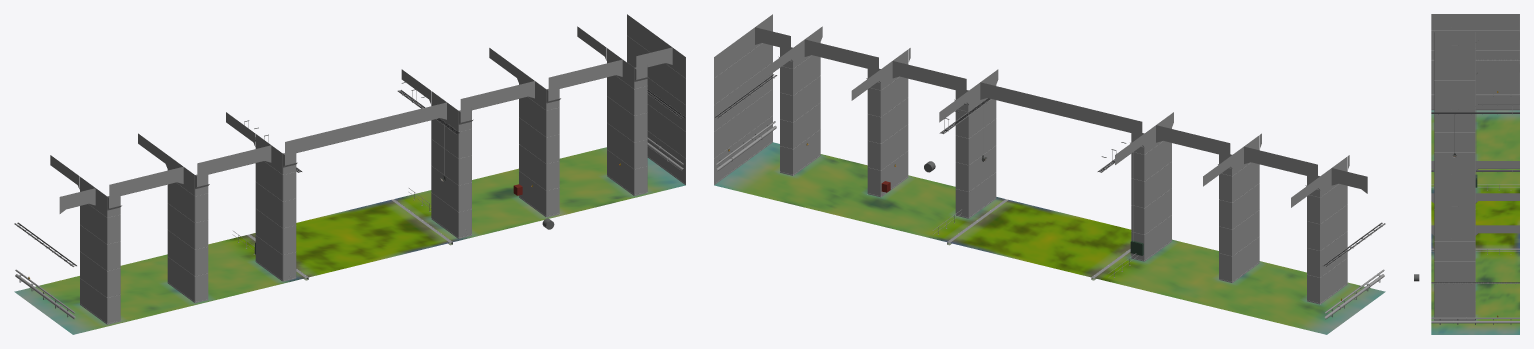
Rendered from cistern_bay_a.glb.
The picture shows the model from 3 angles, left to right: view 1: azimuth 30°, elevation 25°; view 2: azimuth 150°, elevation 25°; view 3: azimuth 270°, elevation 25°; orthographic projection. The views are drawn at different scales.
Visible parts, largest first — view 1: CIS_Shell, CIS_Floor, CIS_Galv, CIS_Steel; view 2: CIS_Shell, CIS_Floor, CIS_Galv, CIS_Steel; view 3: CIS_Shell, CIS_Floor, CIS_Galv, CIS_Steel, CIS_Grate.
Boxes of the visible parts, box(x1,y1,x2,y2) form: CIS_Shell: box(50, 14, 685, 324); CIS_Floor: box(14, 147, 685, 334); CIS_Galv: box(14, 89, 685, 319); CIS_Steel: box(15, 82, 684, 317); CIS_Shell: box(714, 14, 1367, 304); CIS_Floor: box(714, 142, 1385, 334); CIS_Galv: box(714, 74, 1385, 319); CIS_Steel: box(715, 74, 1384, 317); CIS_Shell: box(1431, 14, 1519, 320); CIS_Floor: box(1431, 110, 1519, 334); CIS_Galv: box(1431, 59, 1519, 323); CIS_Steel: box(1414, 91, 1519, 324); CIS_Grate: box(1431, 248, 1519, 249).
Bounding box in the file's own units: 90.03 × 18.35 × 17.9.
